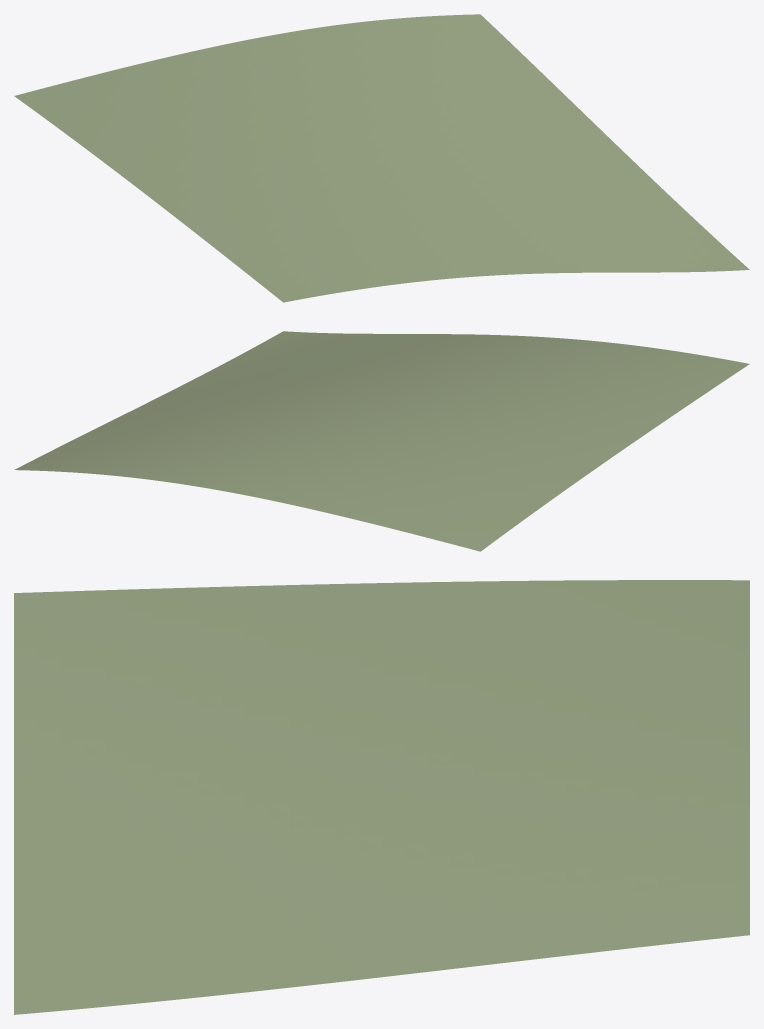
File: expanse-4-28.glb
The picture shows the model from 3 angles, top to bottom: view 1: azimuth 30°, elevation 25°; view 2: azimuth 150°, elevation 25°; view 3: azimuth 270°, elevation 25°; orthographic projection. The views are drawn at different scales.
Visible parts, largest first — view 1: expanse-4-28; view 2: expanse-4-28; view 3: expanse-4-28.
Part boxes in pixels (x1,y1,x2,y2): expanse-4-28: (14, 14, 749, 302); expanse-4-28: (14, 331, 749, 551); expanse-4-28: (14, 580, 749, 1014).
Bounding box in the file's own units: 256 × 48.25 × 256.
